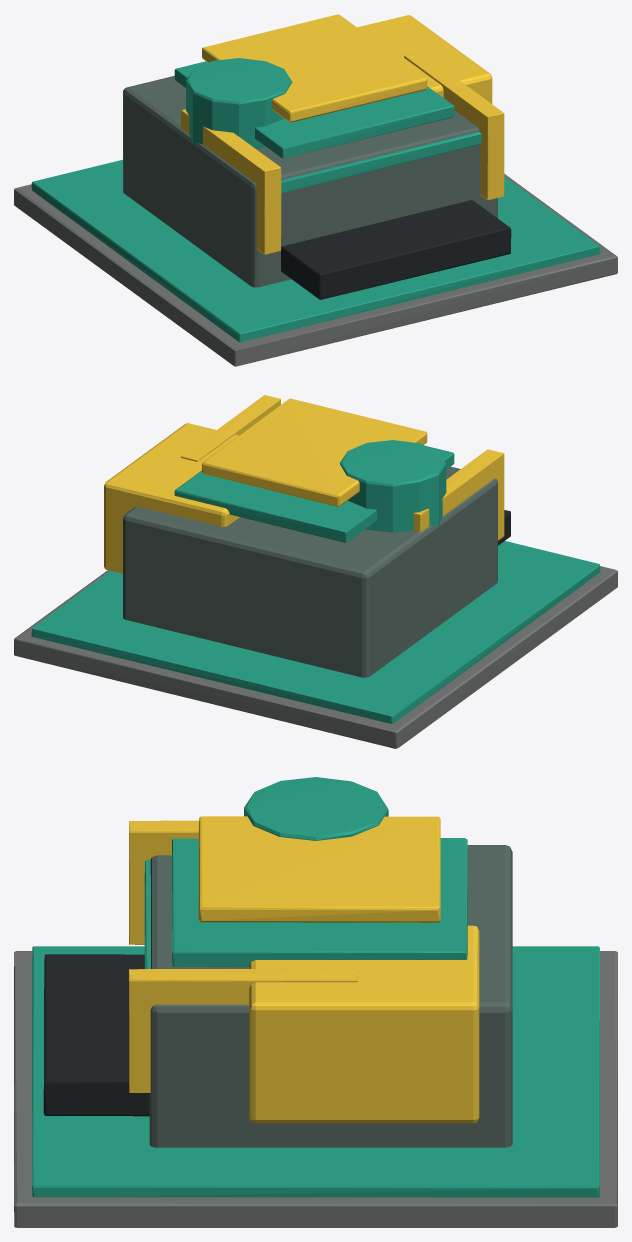
Rendered from SM_Coalition_CO_Refinery_LOD1.fbx.
3 views of the same model, one above another, from view 1: azimuth 30°, elevation 25°; view 2: azimuth 150°, elevation 25°; view 3: azimuth 270°, elevation 25° (orthographic). The views are drawn at different scales.
Visible parts, largest first — view 1: LOD01_SM_Coalition_CO_Refinery; view 2: LOD01_SM_Coalition_CO_Refinery; view 3: LOD01_SM_Coalition_CO_Refinery.
Boxes of the visible parts, bbox=[...] form: LOD01_SM_Coalition_CO_Refinery: bbox=[14, 14, 617, 366]; LOD01_SM_Coalition_CO_Refinery: bbox=[14, 395, 617, 748]; LOD01_SM_Coalition_CO_Refinery: bbox=[14, 777, 617, 1227].
Bounding box in the file's own units: 799 × 799 × 356.
